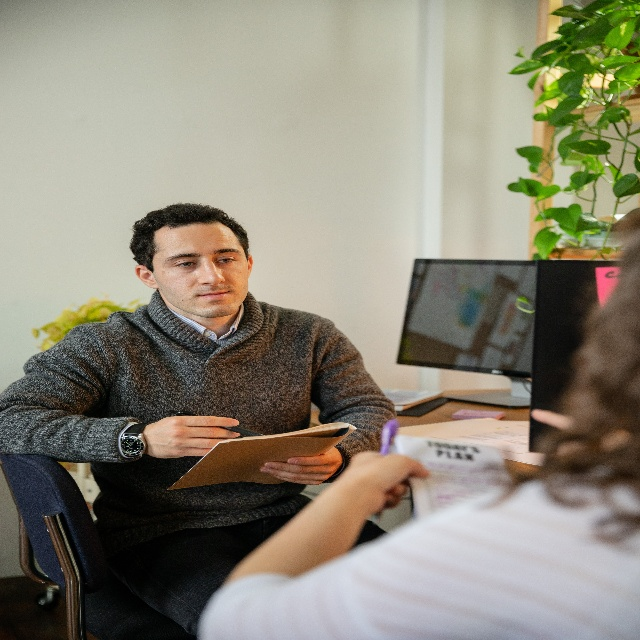Sin_guantes: (347, 449, 430, 517), (143, 416, 242, 458), (258, 446, 344, 486)
